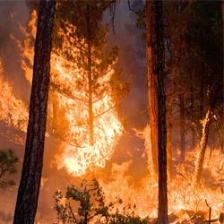fire: (56, 34, 120, 173), (111, 176, 224, 220)
